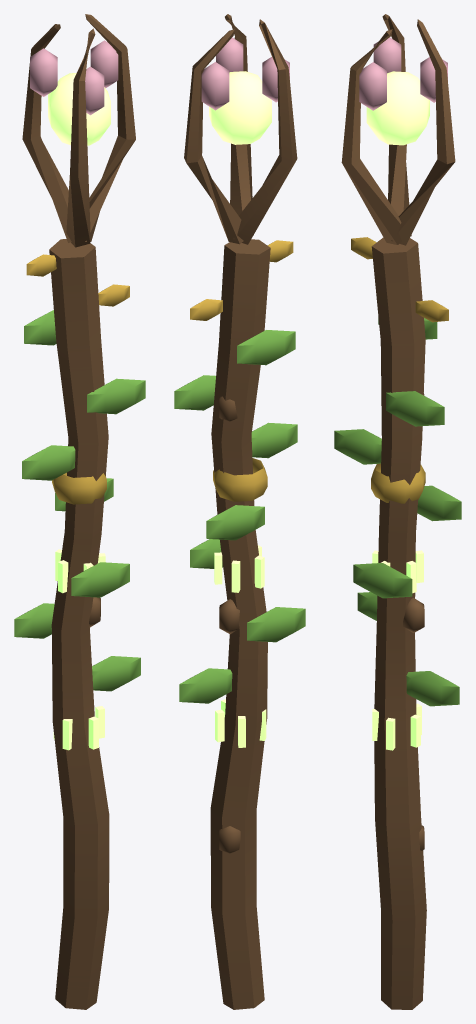
Rendered from living-staff-4.glb.
The picture shows the model from 3 angles, left to right: view 1: azimuth 30°, elevation 25°; view 2: azimuth 210°, elevation 25°; view 3: azimuth 330°, elevation 25°; orthographic projection.
Visible parts, largest first — view 1: living-staff-4; view 2: living-staff-4; view 3: living-staff-4.
Boxes of the visible parts, x1,y1,x2,y2 form: living-staff-4: (14,14,145,1009); living-staff-4: (174,14,305,1009); living-staff-4: (334,14,461,1009).
Size of the model in its own units: 0.115 by 0.8852 by 0.0922.
